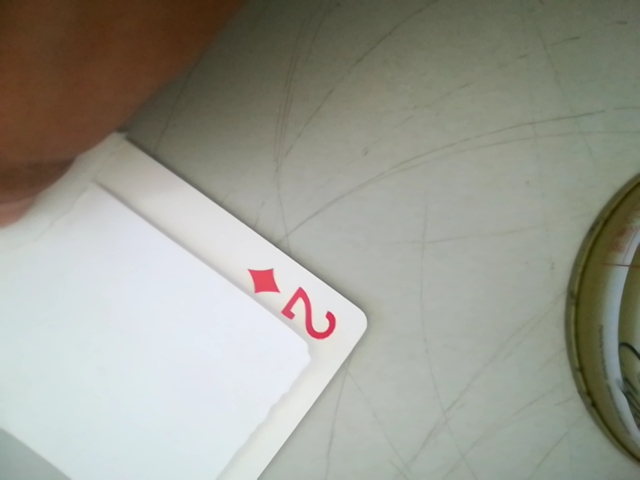fk 2: (239, 266, 357, 348)
